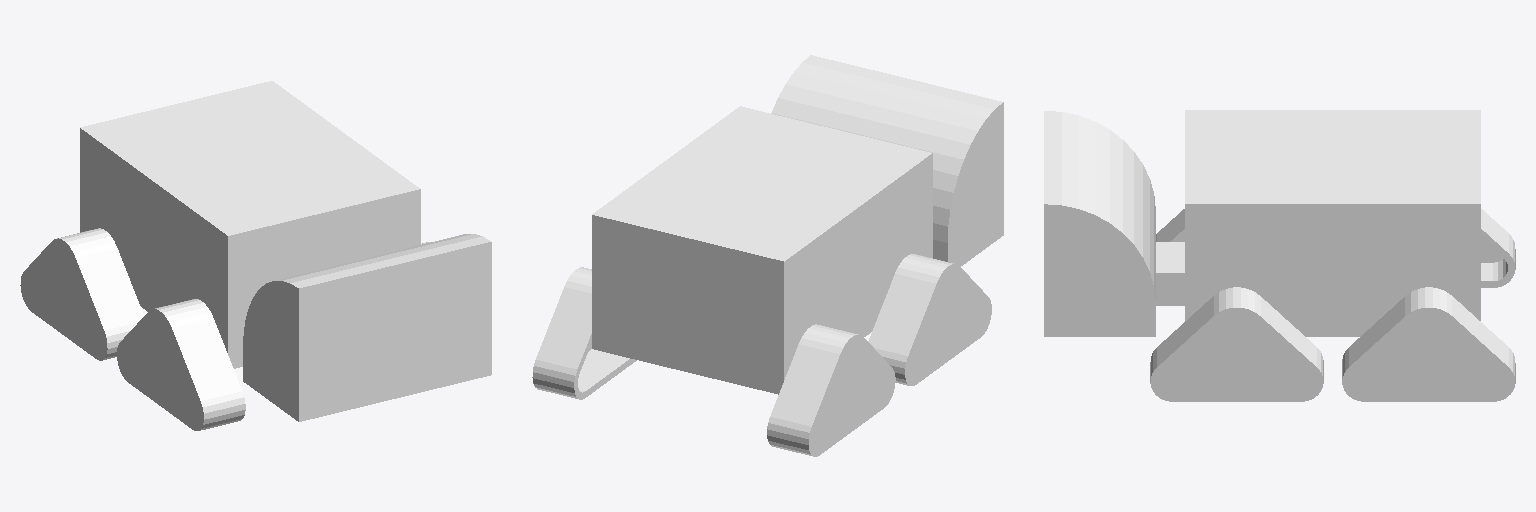
The robot description file, URDF, robot "car":
<?xml version="1.0" encoding="utf-8"?>
<!-- This URDF was automatically created by SolidWorks to URDF Exporter! Originally created by [author] ([email redacted]) 
     Commit Version: 1.6.0-4-g7f85cfe  Build Version: 1.6.7995.38578
     For more information, please see http://wiki.ros.org/sw_urdf_exporter -->
<robot
  name="car">
  <!--rob body-->
  <link
    name="base_link">
    <!--rob apperance-->
    <inertial>
      <origin
        xyz="0.15 0.125782760442477 0.0905056224994855"
        rpy="0 0 0" />
      <mass
        value="33.5751223260577" />
      <inertia
        ixx="0.448373143813742"
        ixy="2.22672766169457E-17"
        ixz="6.55095281406476E-18"    
        iyy="0.342599743069878"
        iyz="0.0053567955300172"
        izz="0.580163577047672" />
    </inertial>
    <visual>
      <origin
        xyz="0 0 0"
        rpy="0 0 0" />
      <geometry>
        <mesh
          filename="package://drob_control/meshes/base_link.STL" />
      </geometry>
      <material
        name="">
        <color
          rgba="1 1 1 1" />
      </material>
    </visual>
    <collision>
      <origin
        xyz="0 0 0"
        rpy="0 0 0" />
      <geometry>
        <mesh
          filename="package://drob_control/meshes/base_link.STL" />
      </geometry>
    </collision>
  </link>
  <link
    name="rbw">
    <inertial>
      <origin
        xyz="0.0369811320754719 -7.7715611723761E-16 -1.13797860024079E-15"
        rpy="0 0 0" />
      <mass
        value="0.166504410640259" />
      <inertia
        ixx="9.49153680465817E-05"
        ixy="-4.20723156859578E-21"
        ixz="3.32636648653541E-22"
        iyy="8.82470165646165E-05"
        iyz="0"
        izz="8.82470165646165E-05" />
    </inertial>
    <visual>
      <origin
        xyz="0 0 0"
        rpy="0 0 0" />
      <geometry>
        <mesh
          filename="package://drob_control/meshes/rbw.STL" />
      </geometry>
      <material
        name="">
        <color
          rgba="1 1 1 1" />
      </material>
    </visual>
    <collision>
      <origin
        xyz="0 0 0"
        rpy="0 0 0" />
      <geometry>
        <mesh
          filename="package://drob_control/meshes/rbw.STL" />
      </geometry>
    </collision>
  </link>
  <joint
    name="rbj"
    type="continuous">
    <origin
      xyz="0 0.33 0.0299999999999998"
      rpy="0.526415693374454 0 3.14159265358979" />
    <parent
      link="base_link" />
    <child
      link="rbw" />
    <axis
      xyz="1 0 0" />
  </joint>
  <link
    name="lbw">
    <inertial>
      <origin
        xyz="0.0569811320754717 3.88578058618805E-16 8.88178419700125E-16"
        rpy="0 0 0" />
      <mass
        value="0.166504410640259" />
      <inertia
        ixx="9.49153680465816E-05"
        ixy="2.58068496699858E-22"
        ixz="-2.58381125403857E-21"
        iyy="8.82470165646164E-05"
        iyz="0"
        izz="8.82470165646164E-05" />
    </inertial>
    <visual>
      <origin
        xyz="0 0 0"
        rpy="0 0 0" />
      <geometry>
        <mesh
          filename="package://drob_control/meshes/lbw.STL" />
      </geometry>
      <material
        name="">
        <color
          rgba="1 1 1 1" />
      </material>
    </visual>
    <collision>
      <origin
        xyz="0 0 0"
        rpy="0 0 0" />
      <geometry>
        <mesh
          filename="package://drob_control/meshes/lbw.STL" />
      </geometry>
    </collision>
  </link>
  <joint
    name="lbj"
    type="continuous">
    <origin
      xyz="0.28 0.33 0.0299999999999991"
      rpy="-2.61517696021534 0 0" />
    <parent
      link="base_link" />
    <child
      link="lbw" />
    <axis
      xyz="1 0 0" />
  </joint>
  <link
    name="lfw">
    <inertial>
      <origin
        xyz="0.0569811320754717 2.77555756156289E-17 2.18575157973078E-16"
        rpy="0 0 0" />
      <mass
        value="0.166504410640259" />
      <inertia
        ixx="9.49153680465816E-05"
        ixy="-2.41979405489641E-21"
        ixz="6.84614603779933E-21"
        iyy="8.82470165646164E-05"
        iyz="-6.7762635780344E-21"
        izz="8.82470165646164E-05" />
    </inertial>
    <visual>
      <origin
        xyz="0 0 0"
        rpy="0 0 0" />
      <geometry>
        <mesh
          filename="package://drob_control/meshes/lfw.STL" />
      </geometry>
      <material
        name="">
        <color
          rgba="1 1 1 1" />
      </material>
    </visual>
    <collision>
      <origin
        xyz="0 0 0"
        rpy="0 0 0" />
      <geometry>
        <mesh
          filename="package://drob_control/meshes/lfw.STL" />
      </geometry>
    </collision>
  </link>
  <joint
    name="lfj"
    type="continuous">
    <origin
      xyz="0.28 0.0700000000000002 0.0299999999999993"
      rpy="-2.61517696021534 0 0" />
    <parent
      link="base_link" />
    <child
      link="lfw" />
    <axis
      xyz="1 0 0" />
  </joint>
  <link
    name="rfw">
    <inertial>
      <origin
        xyz="0.036981 -2.2898E-16 -1.6653E-16"
        rpy="0 0 0" />
      <mass
        value="0.1665" />
      <inertia
        ixx="9.4915E-05"
        ixy="-2.9512E-21"
        ixz="-7.1592E-21"
        iyy="8.8247E-05"
        iyz="-3.3881E-21"
        izz="8.8247E-05" />
    </inertial>
    <visual>
      <origin
        xyz="0 0 0"
        rpy="0 0 0" />
      <geometry>
        <mesh
          filename="package://drob_control/meshes/rfw.STL" />
      </geometry>
      <material
        name="">
        <color
          rgba="1 1 1 1" />
      </material>
    </visual>
    <collision>
      <origin
        xyz="0 0 0"
        rpy="0 0 0" />
      <geometry>
        <mesh
          filename="package://drob_control/meshes/rfw.STL" />
      </geometry>
    </collision>
  </link>
  <joint
    name="rfj"
    type="continuous">
    <origin
      xyz="0 0.0700000000000001 0.0300000000000001"
      rpy="0.526415693374454 0 -3.14159265358979" />
    <parent
      link="base_link" />
    <child
      link="rfw" />
    <axis
      xyz="1 0 0" />
  </joint>
</robot>

--- Render facts (derived) ---
The picture shows the robot from 3 angles, left to right: view 1: azimuth 30°, elevation 25°; view 2: azimuth 150°, elevation 25°; view 3: azimuth 270°, elevation 25°; orthographic projection.
Robot: car — 5 links, 4 joints (4 continuous); root link base_link; default pose: every joint at zero.
Links seen in each view (by area): view 1: base_link; view 2: base_link; view 3: base_link.
Boxes of the visible links, x1,y1,x2,y2 form: base_link: (20,81,491,430); base_link: (532,55,1003,456); base_link: (1044,110,1515,401).
Size in the robot's own frame: 0.43 by 0.6384 by 0.2662 metres.
5 mesh visuals loaded from 5 distinct referenced files (5 binary STL).
